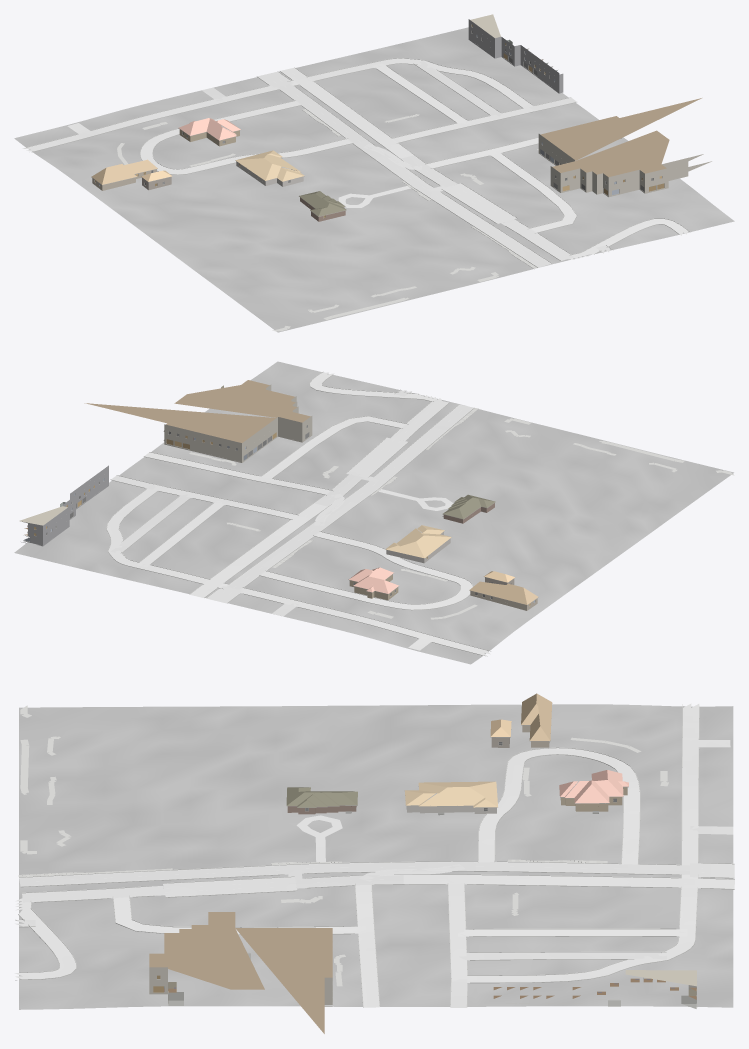
3 renders of one model, top to bottom at view 1: azimuth 30°, elevation 25°; view 2: azimuth 150°, elevation 25°; view 3: azimuth 270°, elevation 25°, orthographic. The views are drawn at different scales.
Parts seen in each view (by area): view 1: ground, concrete, asphalt, roof_flat, wall_com, curb, roof, walk, wall, detail; view 2: ground, concrete, asphalt, roof_flat, wall_com, curb, roof, walk, wall, detail; view 3: ground, concrete, asphalt, roof_flat, curb, roof, walk, wall, room, mark_w, wall_com, mark_y (+2 smaller).
Part boxes in pixels (x1,y1,x2,y2): ground: (14, 27, 734, 332); concrete: (23, 58, 688, 259); asphalt: (258, 67, 574, 267); roof_flat: (470, 14, 701, 177); wall_com: (468, 19, 711, 197); curb: (24, 58, 690, 267); roof: (91, 118, 346, 216); walk: (117, 109, 538, 331); wall: (92, 129, 345, 221); detail: (91, 24, 664, 218); ground: (14, 361, 733, 664); concrete: (107, 372, 490, 656); asphalt: (190, 399, 473, 603); roof_flat: (19, 380, 310, 525); wall_com: (21, 384, 312, 546); curb: (106, 371, 490, 655); roof: (349, 494, 538, 604); walk: (189, 408, 734, 619); wall: (349, 503, 537, 610); detail: (29, 427, 538, 606); ground: (19, 704, 733, 1009); concrete: (14, 703, 733, 1007); asphalt: (19, 861, 734, 902); roof_flat: (149, 912, 696, 1033); curb: (15, 704, 734, 1007); roof: (286, 693, 628, 807); walk: (18, 705, 668, 986); wall: (287, 725, 627, 814); room: (153, 953, 696, 1008); mark_w: (19, 862, 734, 902); wall_com: (149, 967, 332, 1006); mark_y: (21, 870, 732, 893).
Size of the model in its own units: 297 by 11.99 by 252.
